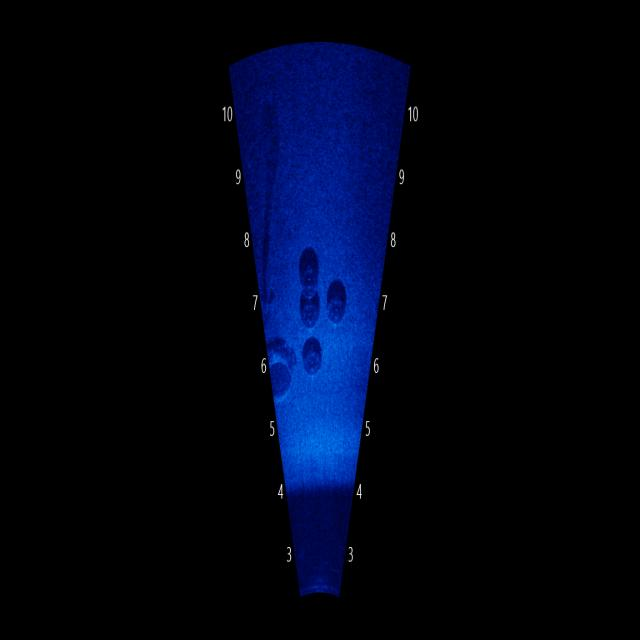circle: (293, 252, 324, 306)
